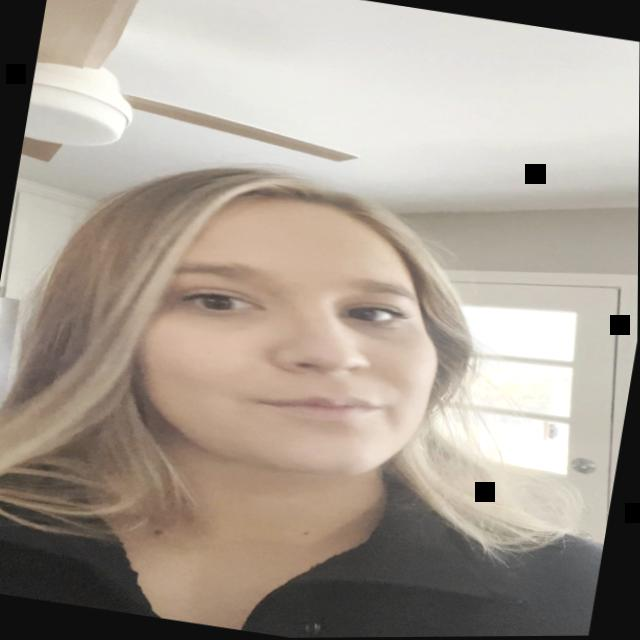NO-Mask: (54, 160, 486, 526)
